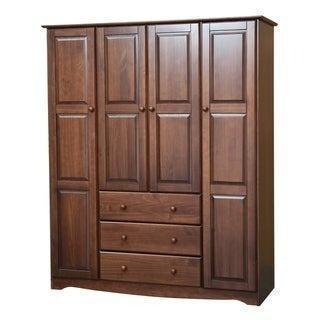Armario: (43, 21, 276, 306)
